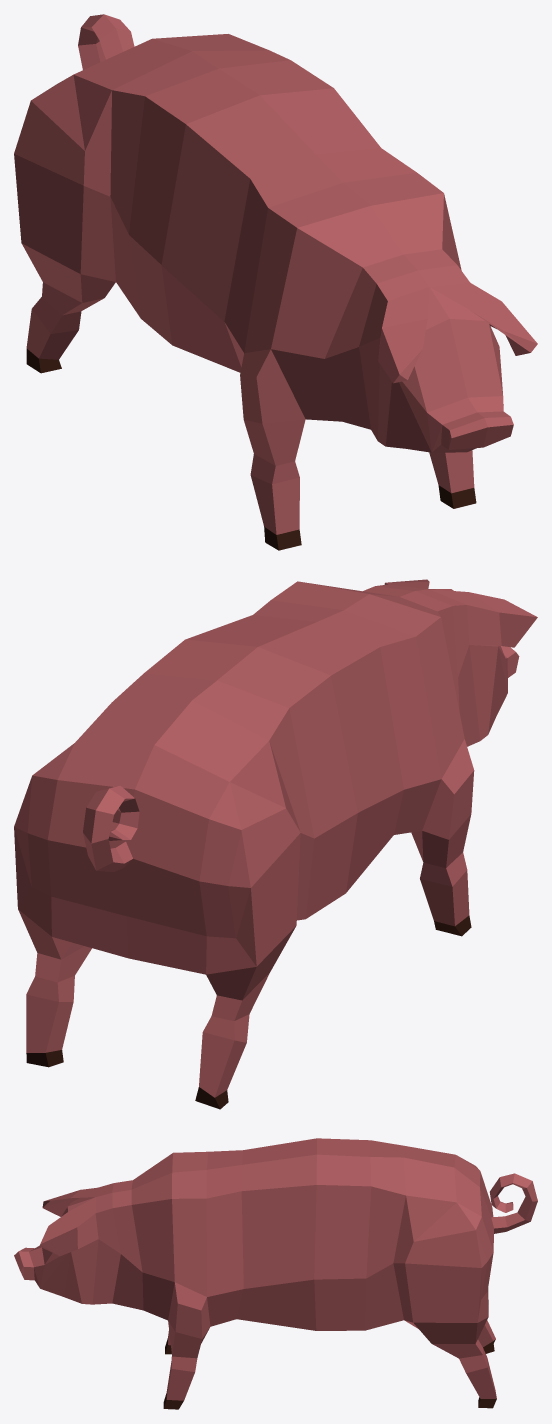
Rendered from Pig_000034.obj.
The picture shows the model from 3 angles, top to bottom: view 1: azimuth 30°, elevation 25°; view 2: azimuth 150°, elevation 25°; view 3: azimuth 270°, elevation 25°; orthographic projection. The views are drawn at different scales.
Visible parts, largest first — view 1: Pig_Cylinder; view 2: Pig_Cylinder; view 3: Pig_Cylinder.
Part boxes in pixels (bbox=[...]): Pig_Cylinder: bbox=[14, 14, 537, 550]; Pig_Cylinder: bbox=[14, 579, 537, 1109]; Pig_Cylinder: bbox=[14, 1138, 537, 1409].
Size of the model in its own units: 3.3 by 4.6 by 9.73.
